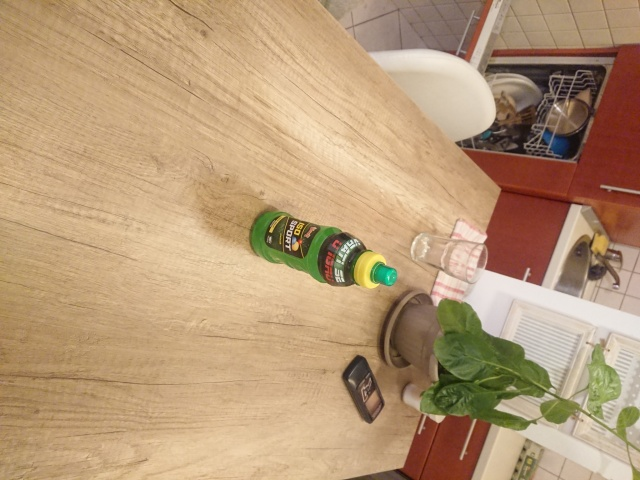Vindi Iso Sport Lemon-Grapefruit 500mL: (247, 209, 399, 292)
